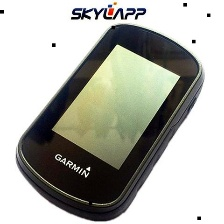phone: (10, 20, 213, 224)
